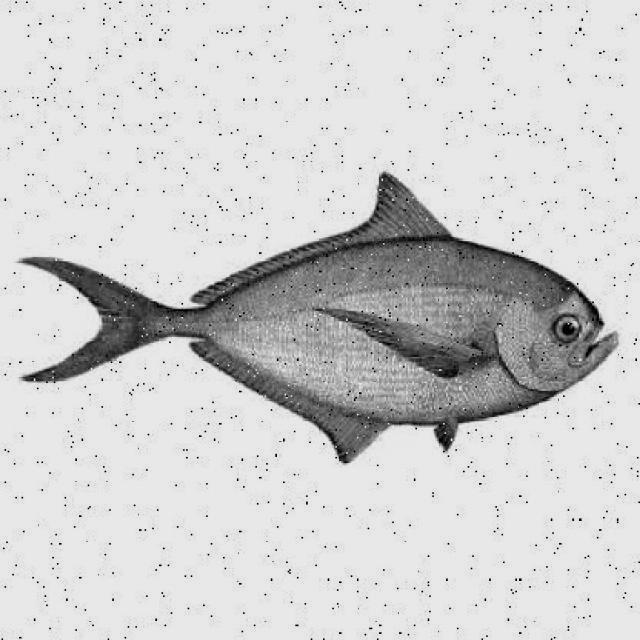ikan-pacu: (17, 169, 617, 465)
